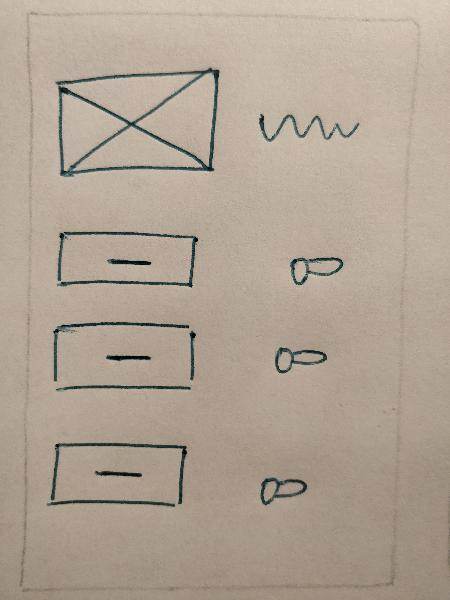button: (44, 313, 201, 402), (43, 432, 192, 517), (46, 223, 203, 301)
image: (50, 65, 223, 185)
switch: (279, 241, 351, 301), (254, 463, 317, 519), (269, 333, 330, 388)
text: (250, 99, 362, 158)
